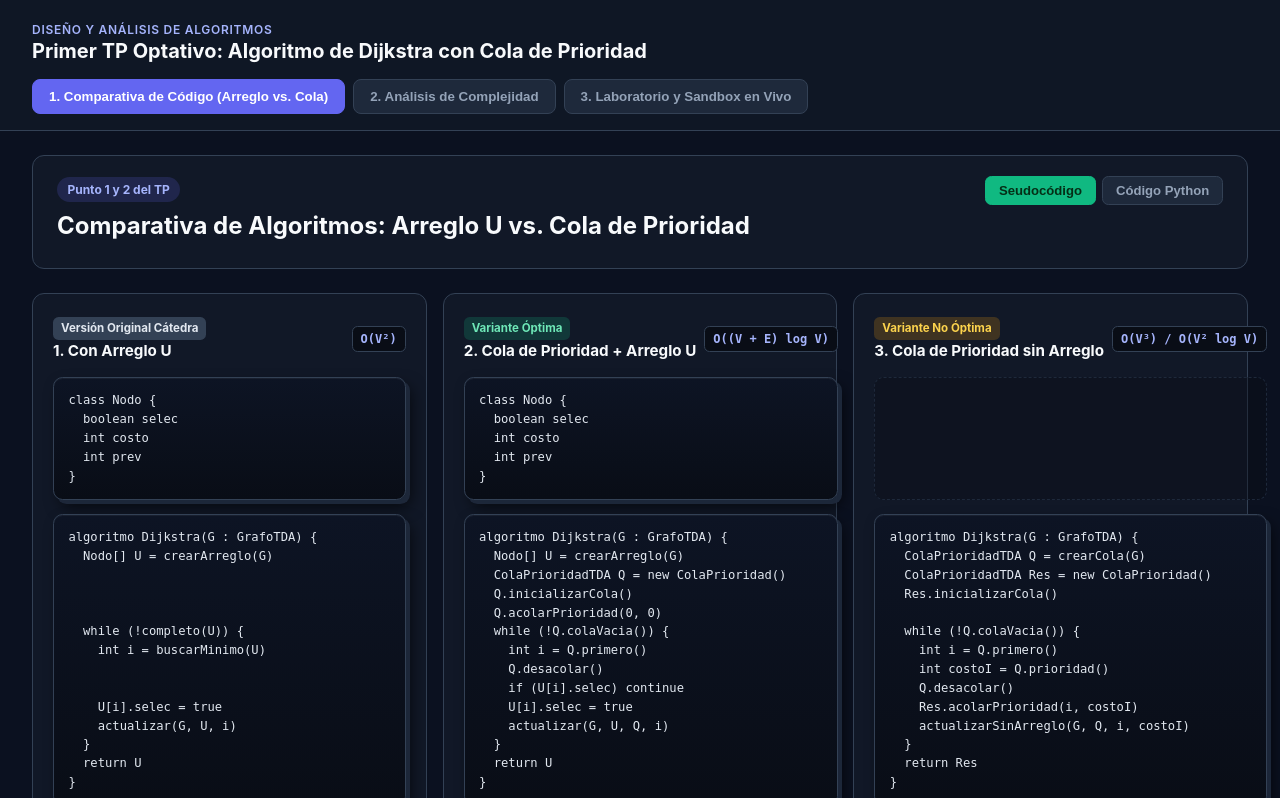
Scenario: Aplicación de Presentación TP Optativo 1 - Dijkstra › navega a la vista de Análisis de Complejidad mediante la Lookup Table y muestra el desglose asintótico
This screenshot has width=1280, height=798.
Click the button "2. Análisis de Complejidad": (454, 96) [353,79,556,114]
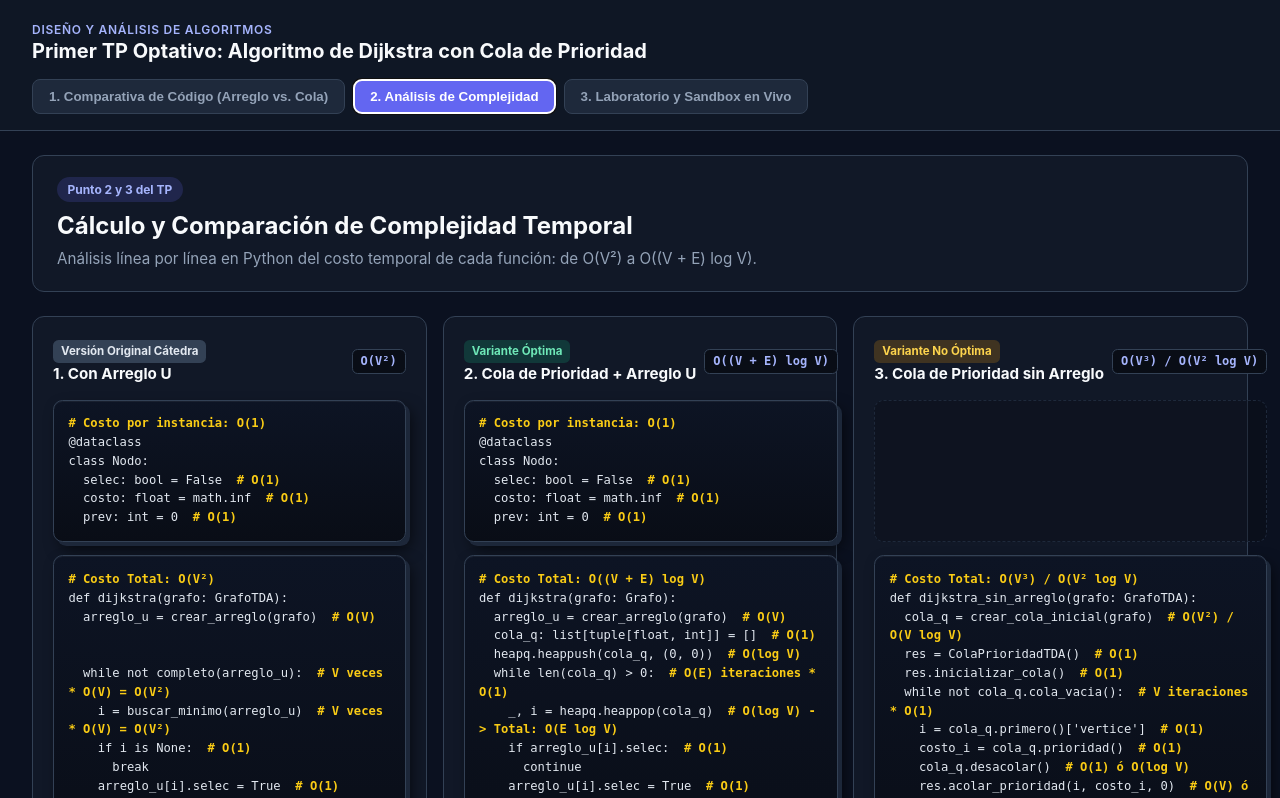
expect the heading "Cálculo y Comparación de Complejidad Temporal" is shown: met, box [57,211,633,240]
expect the text "O((V + E) log V)" is shown: met, box [57,249,757,268]
